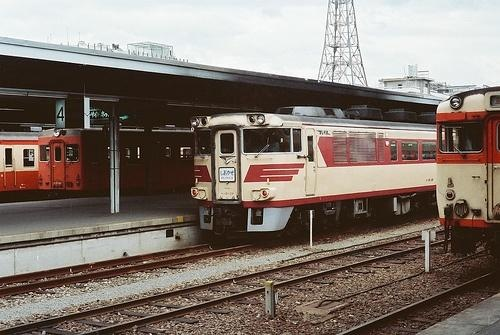train: (189, 101, 440, 235), (40, 125, 199, 203), (433, 80, 500, 256)
